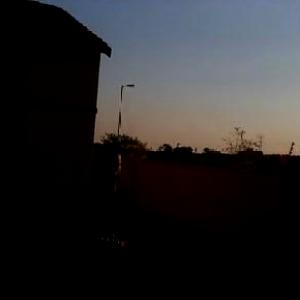follow: (52, 135, 138, 299)
